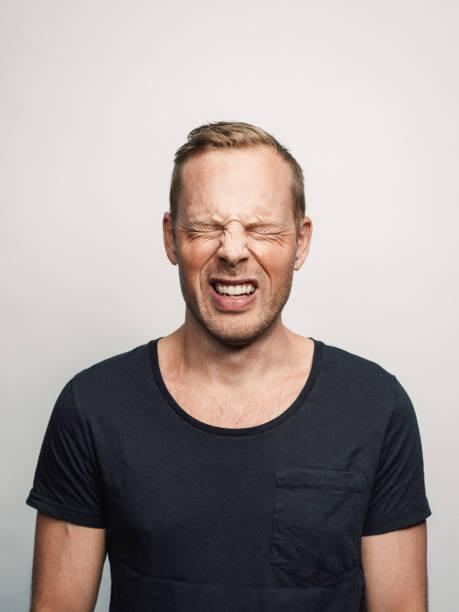pain: (181, 209, 293, 249)
